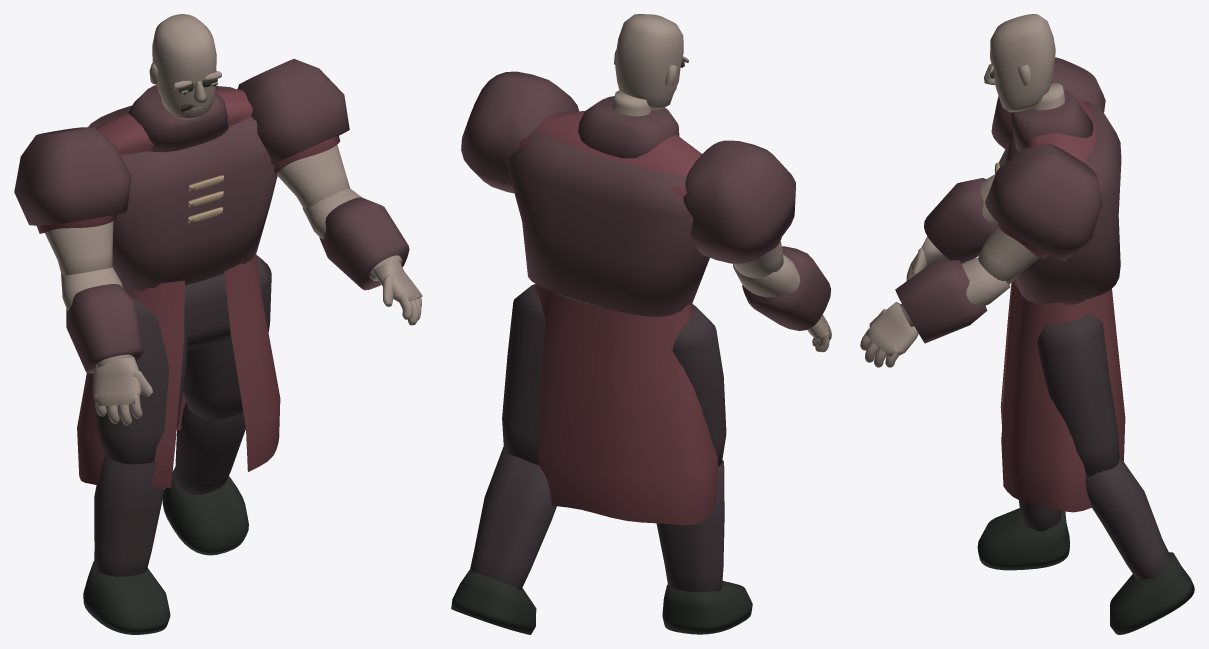
Rendered from enemy-lab-warlord.glb.
3 renders of one model, left to right at view 1: azimuth 30°, elevation 25°; view 2: azimuth 150°, elevation 25°; view 3: azimuth 270°, elevation 25°, orthographic. The views are drawn at different scales.
Parts seen in each view (by area): view 1: Command cuirass, Command coat tails, Command pauldron_-1, Command pauldron_1, Trouser shin_L, Trouser thigh_L, Command bracer_1, Anatomical head, Command bracer_-1, Shoe_R, Trouser shin_R, Trouser thigh_R (+12 smaller); view 2: Command coat tails, Command cuirass, Command pauldron_-1, Trouser shin_R, Command pauldron_1, Trouser thigh_R, Anatomical head, Trouser shin_L, Trouser thigh_L, Command gorget, Shoe_L, Command bracer_-1 (+5 smaller); view 3: Command coat tails, Command pauldron_1, Trouser thigh_R, Command cuirass, Trouser shin_R, Anatomical head, Command bracer_1, Shoe_L, Command bracer_-1, Shoe_R, Command gorget, Command pauldron_-1 (+6 smaller).
Part boxes in pixels (left/top/right/bottom): Command cuirass: left=88, top=86, right=277, bottom=291; Command coat tails: left=77, top=253, right=280, bottom=488; Command pauldron_-1: left=14, top=127, right=131, bottom=225; Command pauldron_1: left=237, top=59, right=349, bottom=164; Trouser shin_L: left=94, top=455, right=164, bottom=576; Trouser thigh_L: left=92, top=298, right=187, bottom=464; Command bracer_1: left=319, top=197, right=409, bottom=290; Anatomical head: left=152, top=14, right=216, bottom=119; Command bracer_-1: left=66, top=284, right=143, bottom=373; Shoe_R: left=162, top=467, right=248, bottom=555; Trouser shin_R: left=174, top=402, right=245, bottom=494; Trouser thigh_R: left=183, top=255, right=271, bottom=420; Command coat tails: left=534, top=284, right=717, bottom=524; Command cuirass: left=505, top=129, right=709, bottom=316; Command pauldron_-1: left=683, top=140, right=795, bottom=263; Trouser shin_R: left=470, top=447, right=556, bottom=590; Command pauldron_1: left=461, top=71, right=578, bottom=193; Trouser thigh_R: left=502, top=284, right=545, bottom=465; Anatomical head: left=615, top=14, right=683, bottom=109; Trouser shin_L: left=656, top=460, right=724, bottom=592; Trouser thigh_L: left=672, top=304, right=726, bottom=466; Command gorget: left=578, top=96, right=679, bottom=158; Shoe_L: left=662, top=581, right=752, bottom=634; Command bracer_-1: left=742, top=246, right=831, bottom=330; Command coat tails: left=1000, top=278, right=1125, bottom=512; Command pauldron_1: left=985, top=144, right=1102, bottom=261; Trouser thigh_R: left=1037, top=314, right=1119, bottom=477; Command cuirass: left=1005, top=102, right=1121, bottom=303; Trouser shin_R: left=1085, top=456, right=1170, bottom=580; Anatomical head: left=990, top=14, right=1055, bottom=112; Command bracer_1: left=895, top=260, right=987, bottom=343; Shoe_L: left=977, top=508, right=1069, bottom=570; Command bracer_-1: left=924, top=178, right=997, bottom=263; Shoe_R: left=1110, top=552, right=1194, bottom=634; Command gorget: left=1010, top=90, right=1093, bottom=152; Command pauldron_-1: left=991, top=57, right=1105, bottom=150.
Size of the model in its own units: 0.9527 by 1.7 by 0.9028.
